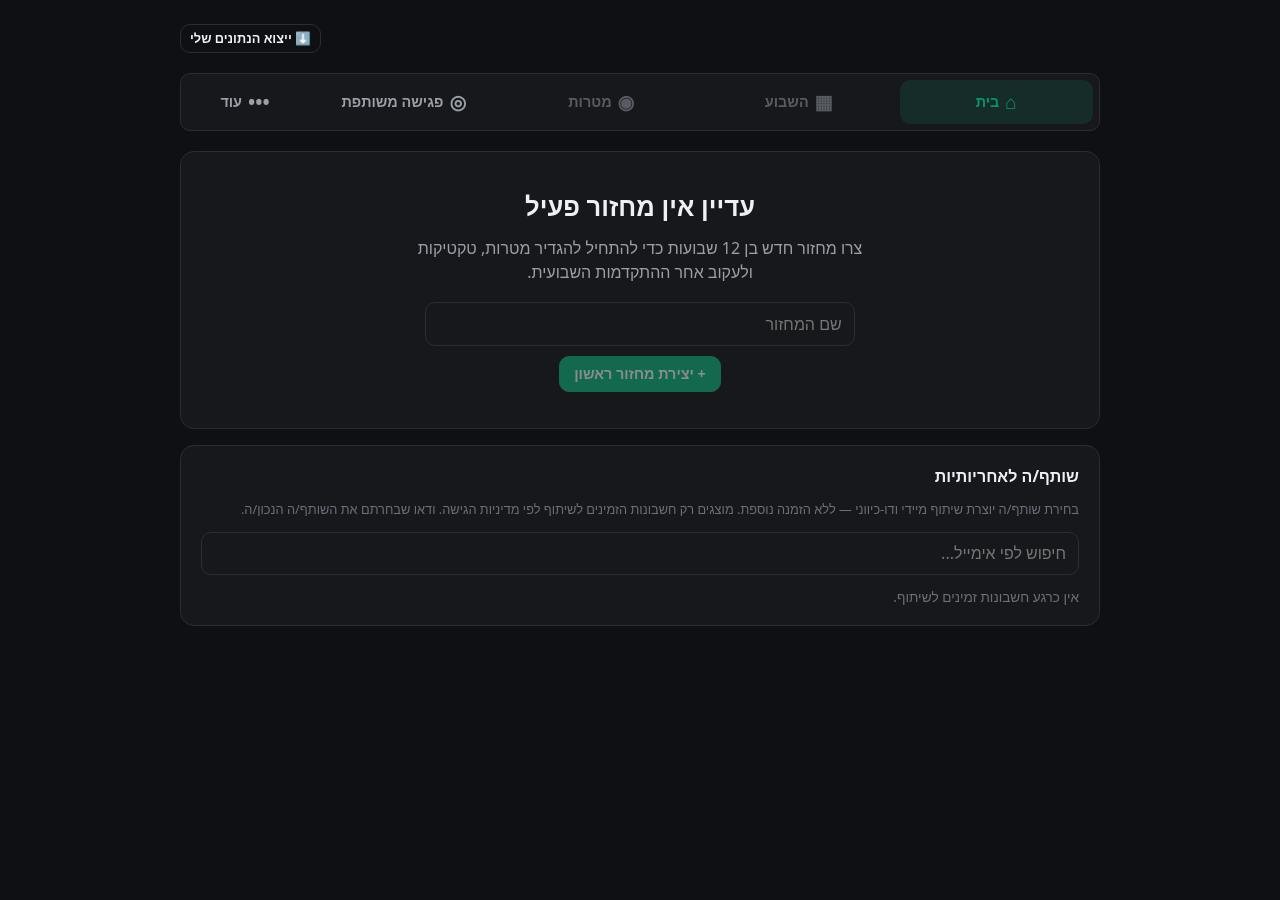
DashboardPage: cycle status cards are scoped to Home (and cycle-dependent tabs) › does NOT show the empty-cycle onboarding card (or loading text) once on the Profile tab
Expected: the heading "עדיין אין מחזור פעיל" is shown, [525,188,755,226]
Click the button "••• עוד" at (245, 102), box [187,80,303,124]
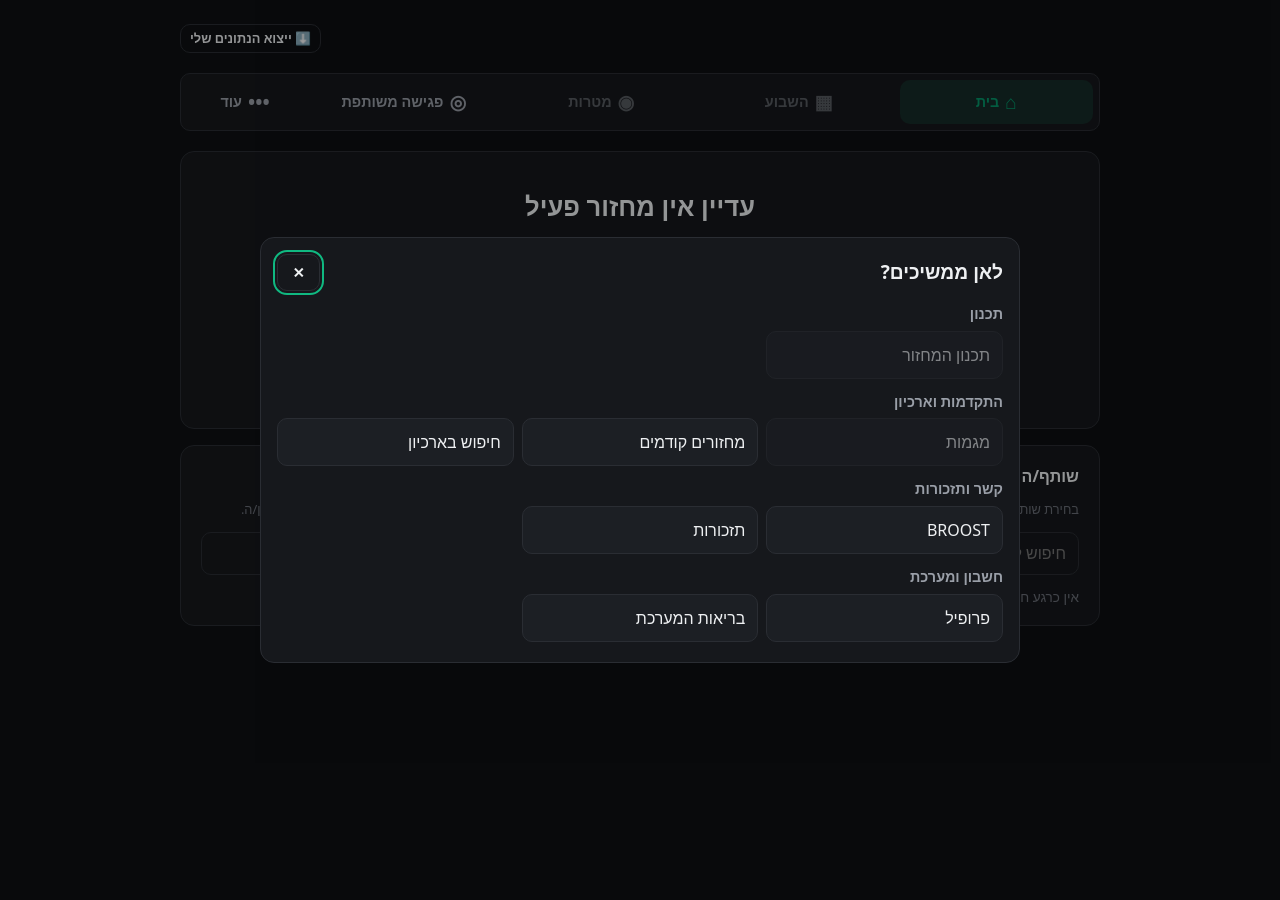
Click the button "פרופיל" at (885, 618), box [766,594,1003,642]
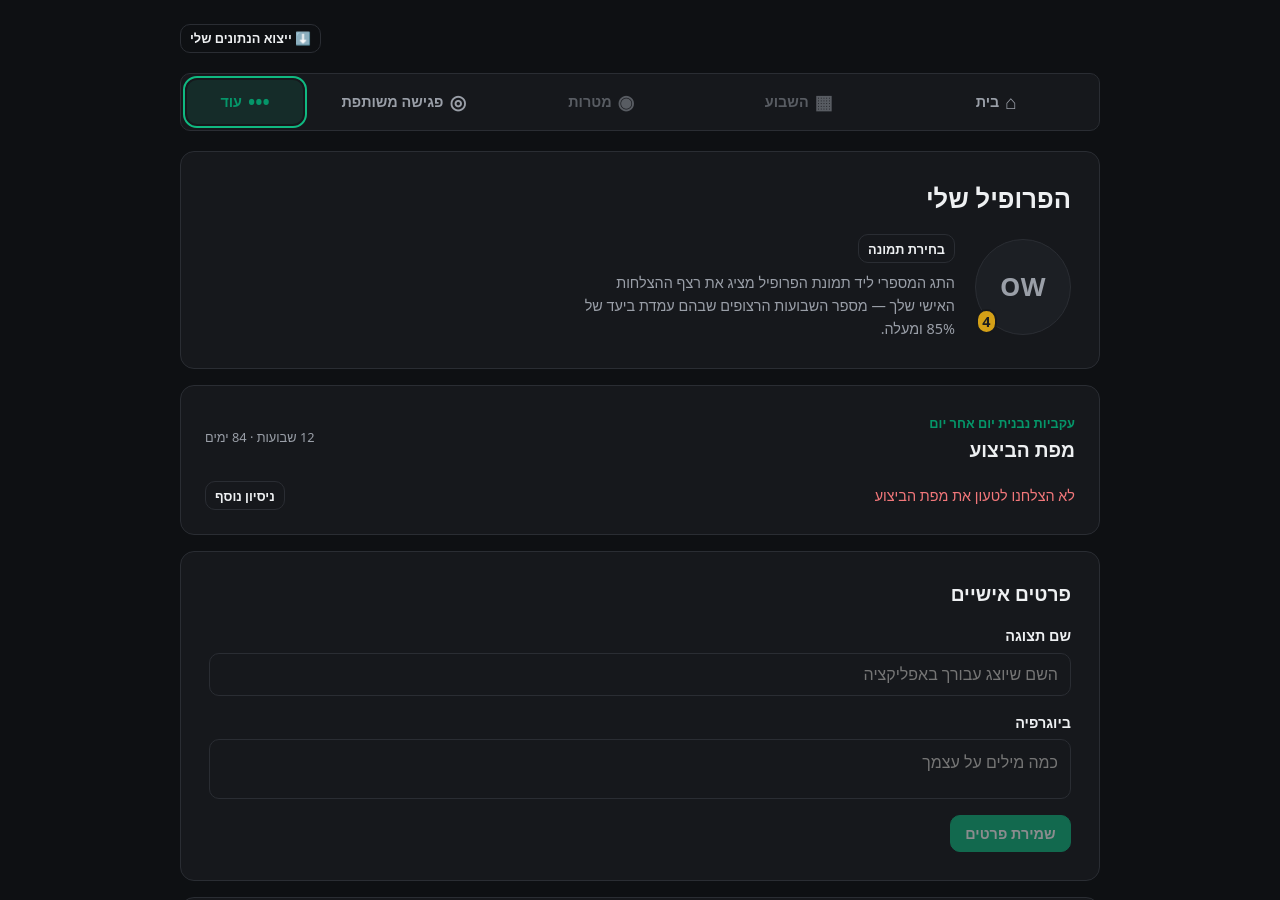
Now the heading "הפרופיל שלי" is shown, box [926,181,1071,216]
Now the heading "עדיין אין מחזור פעיל" is gone
